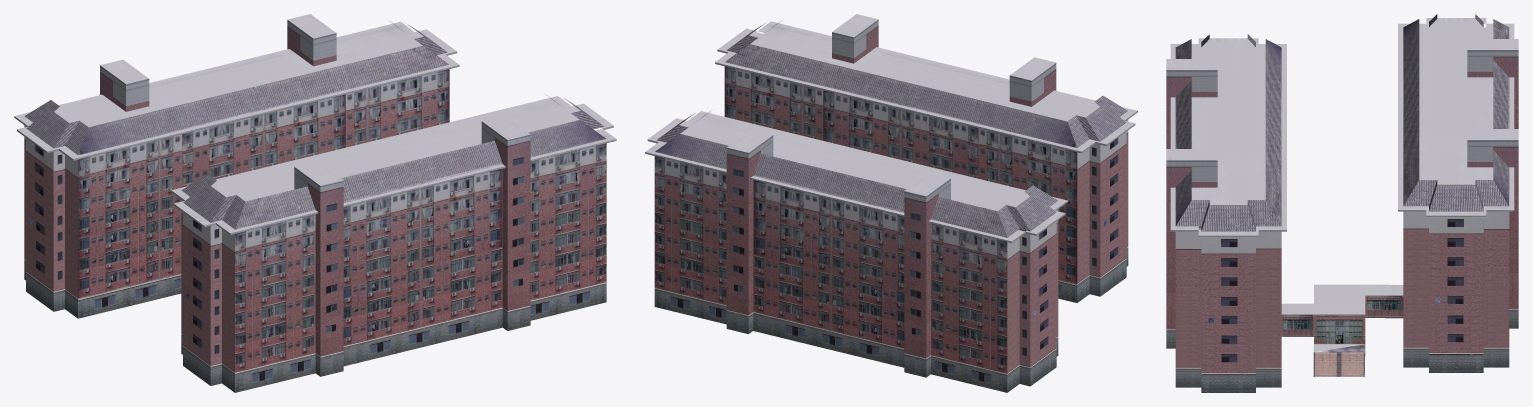
The picture shows the model from 3 angles, left to right: view 1: azimuth 30°, elevation 25°; view 2: azimuth 150°, elevation 25°; view 3: azimuth 270°, elevation 25°; orthographic projection. The views are drawn at different scales.
Visible parts, largest first — view 1: Mesh01#31, Mesh05#22, Mesh06#20, Mesh02#33, Mesh03#27, Mesh04#23, Mesh07#19, Mesh08#13; view 2: Mesh05#22, Mesh01#31, Mesh02#33, Mesh06#20, Mesh07#19, Mesh08#13, Mesh04#23, Mesh03#27; view 3: Mesh06#20, Mesh02#33, Mesh01#31, Mesh05#22, Mesh09#8, Mesh03#27, Mesh07#19, Mesh04#23, Mesh08#13.
Part boxes in pixels (box(x1,y1,x2,y2)): Mesh01#31: box(181, 130, 606, 392); Mesh05#22: box(24, 55, 449, 318); Mesh06#20: box(14, 21, 459, 160); Mesh02#33: box(171, 95, 616, 234); Mesh03#27: box(481, 115, 530, 330); Mesh04#23: box(294, 161, 343, 376); Mesh07#19: box(287, 14, 336, 66); Mesh08#13: box(100, 59, 149, 111); Mesh05#22: box(654, 143, 1058, 392); Mesh01#31: box(724, 66, 1128, 302); Mesh02#33: box(715, 21, 1137, 153); Mesh06#20: box(645, 111, 1067, 242); Mesh07#19: box(726, 129, 773, 334); Mesh08#13: box(904, 173, 950, 377); Mesh04#23: box(1009, 57, 1056, 106); Mesh03#27: box(832, 14, 878, 63); Mesh06#20: box(1398, 14, 1514, 217); Mesh02#33: box(1170, 34, 1286, 237); Mesh01#31: box(1175, 228, 1281, 392); Mesh05#22: box(1403, 211, 1509, 372); Mesh09#8: box(1281, 284, 1403, 376); Mesh03#27: box(1166, 149, 1217, 348); Mesh07#19: box(1467, 129, 1518, 328); Mesh04#23: box(1166, 59, 1217, 148); Mesh08#13: box(1467, 39, 1518, 128).
Size of the model in its own units: 0.0802 by 0.0324 by 0.055.
Materials: 1 (1 with a texture image).
